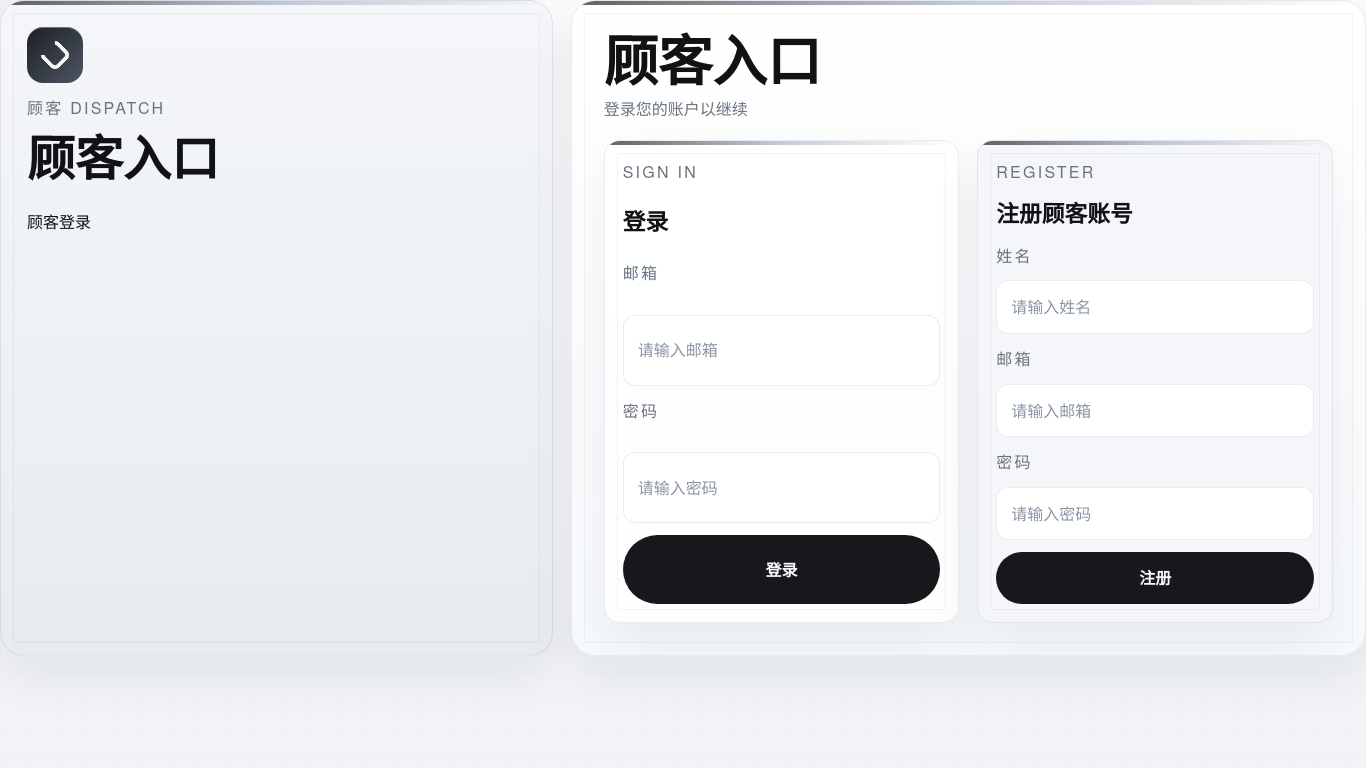
Test case: RoleSession › registers and stores a session for the requested role
Type "Alice" into the field with placeholder "请输入姓名" at x=1155, y=307, box top-left (996, 280), bottom-right (1314, 334)
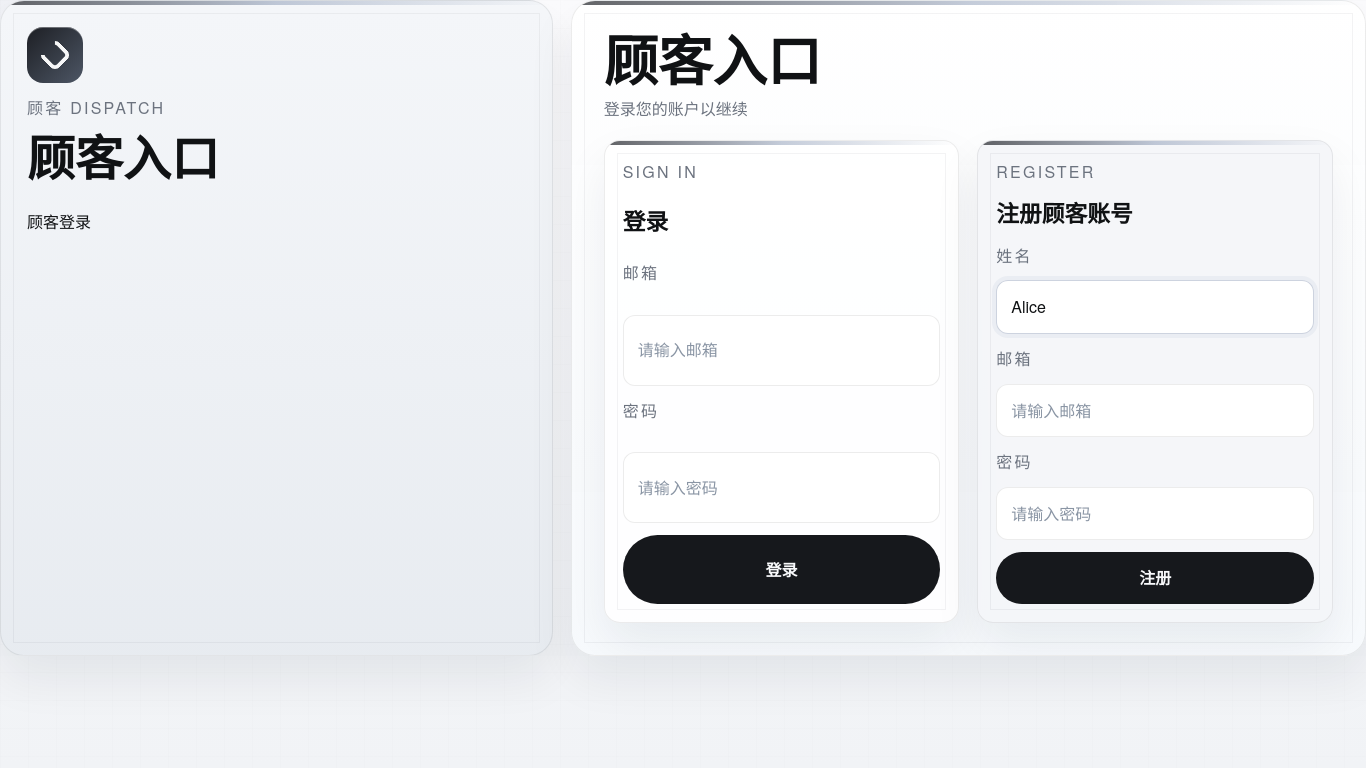
Type "alice@example.com" into the field with placeholder "请输入邮箱" below "姓名" at x=1155, y=410, box top-left (996, 384), bottom-right (1314, 437)
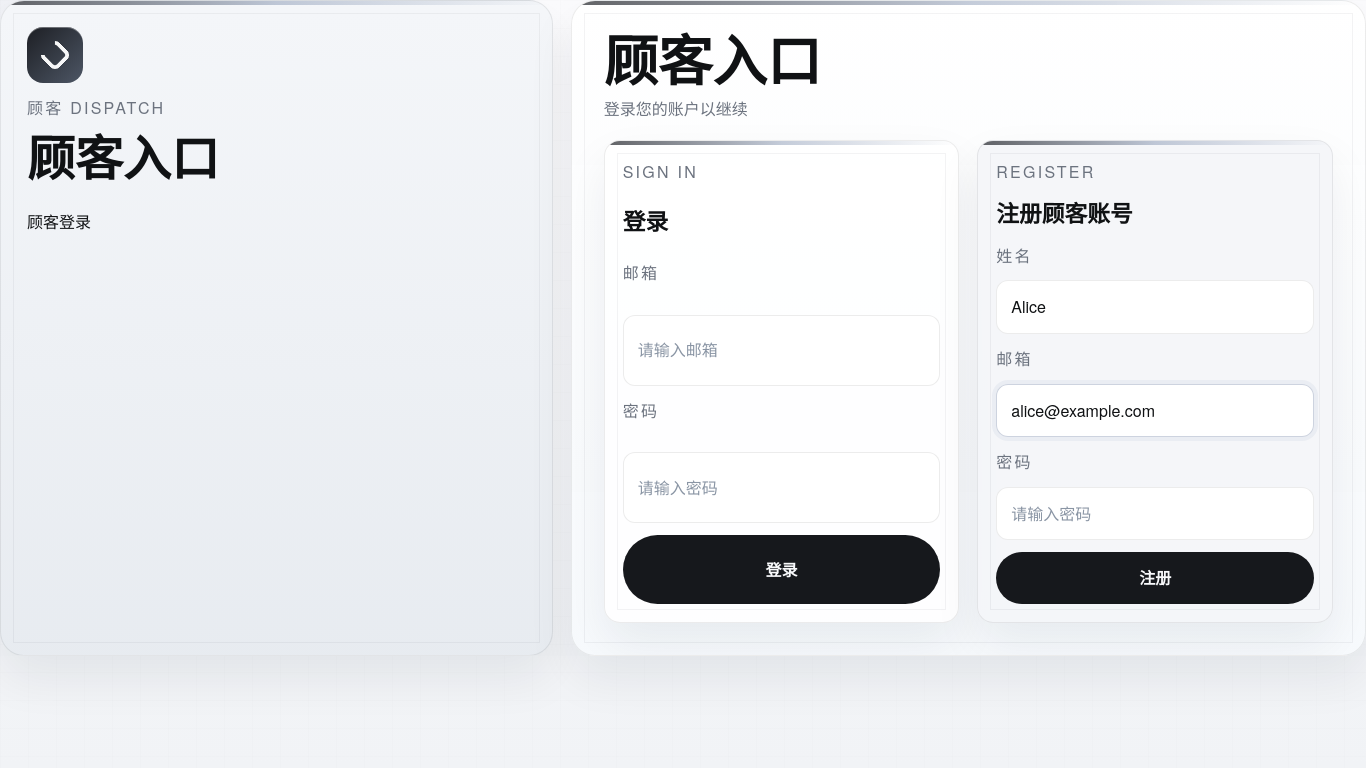
Type "secret123" into the password field with placeholder "请输入密码" below "姓名" at x=1155, y=514, box top-left (996, 487), bottom-right (1314, 540)
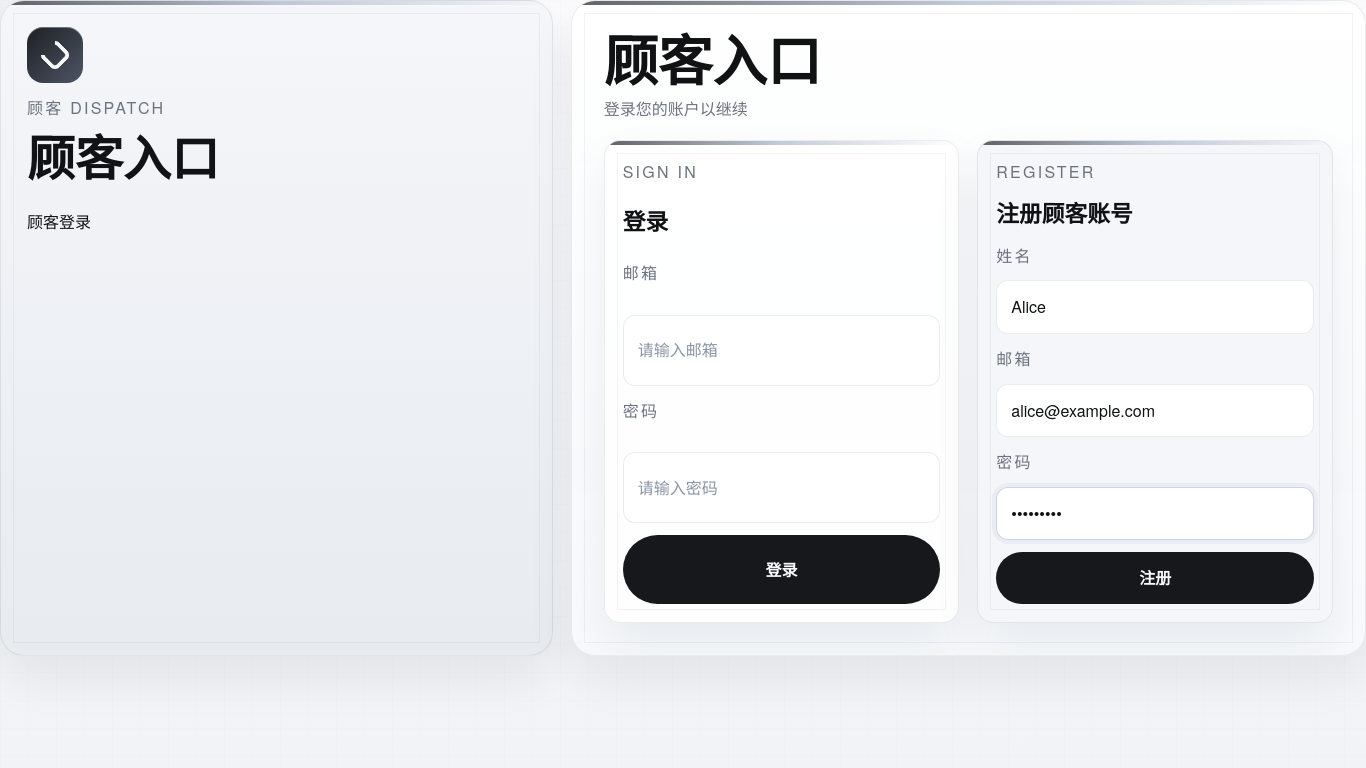
Click the button "注册" at x=1155, y=578, box top-left (996, 552), bottom-right (1314, 604)
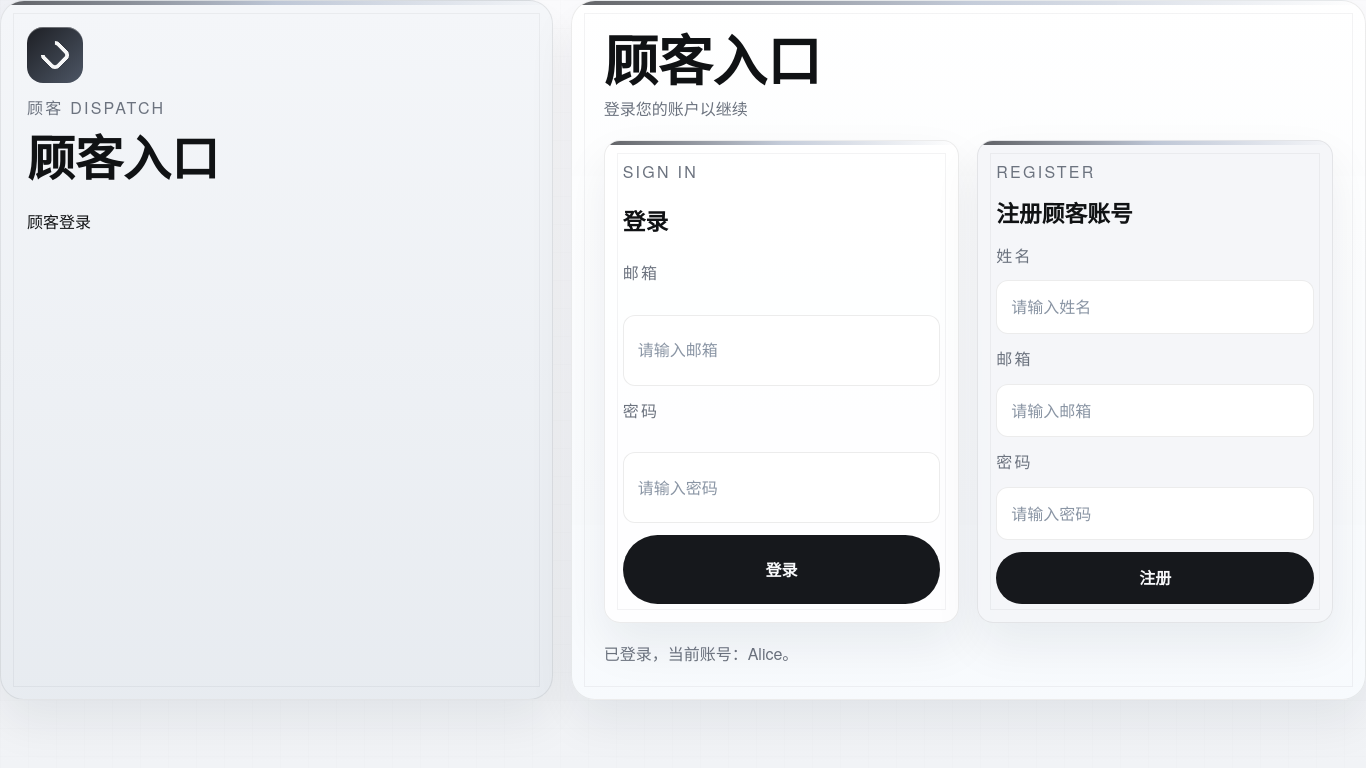
Check: the text "已登录，当前账号：Alice。" is shown, box top-left (604, 642), bottom-right (798, 665)
